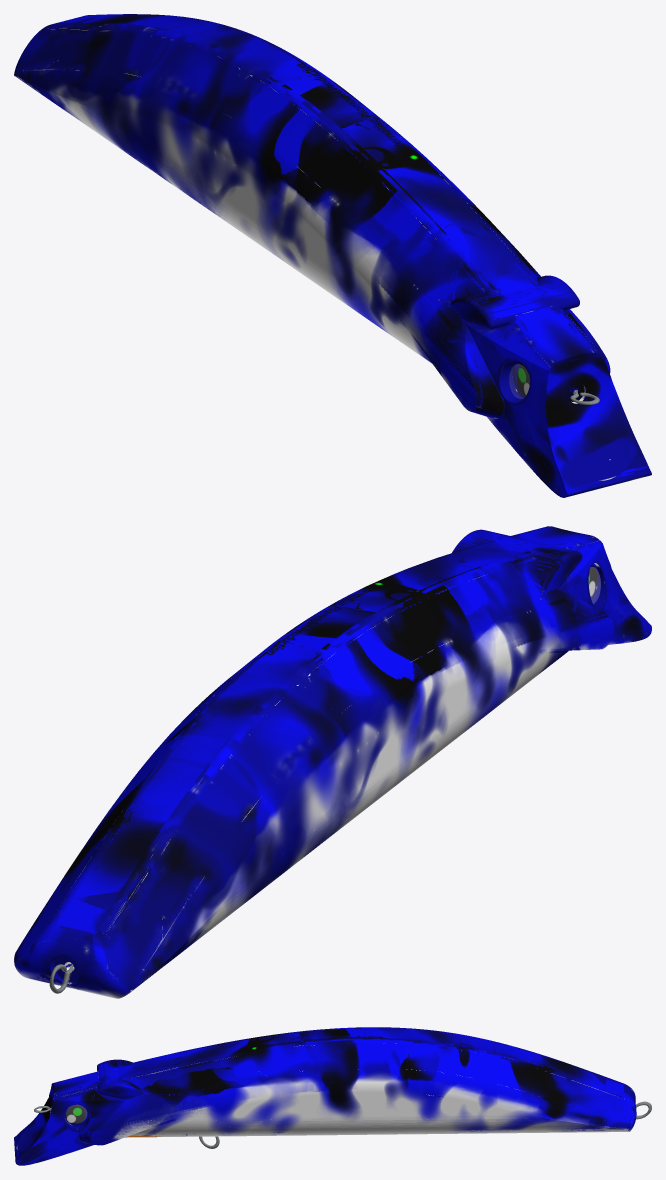
Rendered from BREATH-bule.glb.
3 views of the same model, one above another, from view 1: azimuth 30°, elevation 25°; view 2: azimuth 150°, elevation 25°; view 3: azimuth 270°, elevation 25° (orthographic). The views are drawn at different scales.
Visible parts, largest first — view 1: ブレスライド110F補修; view 2: ブレスライド110F補修; view 3: ブレスライド110F補修.
Part boxes in pixels (x1,y1,x2,y2): ブレスライド110F補修: [14, 14, 651, 497]; ブレスライド110F補修: [14, 526, 651, 998]; ブレスライド110F補修: [14, 1027, 651, 1165].
Bounding box in the file's own units: 16.88 × 20.7 × 103.
Materials: 7 (1 with a texture image).
